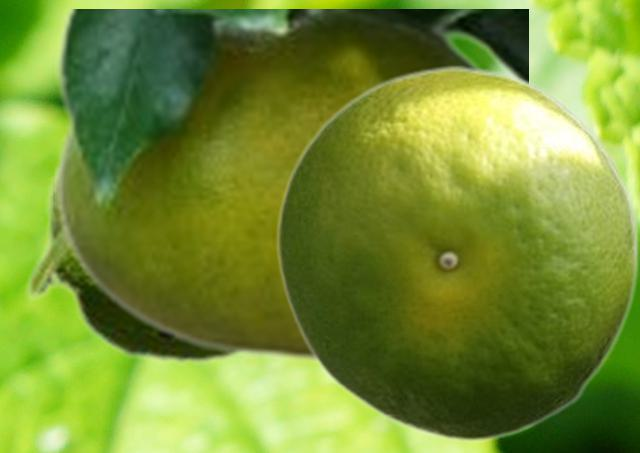dalandan: (55, 9, 527, 364), (275, 64, 638, 442), (22, 148, 240, 366)
